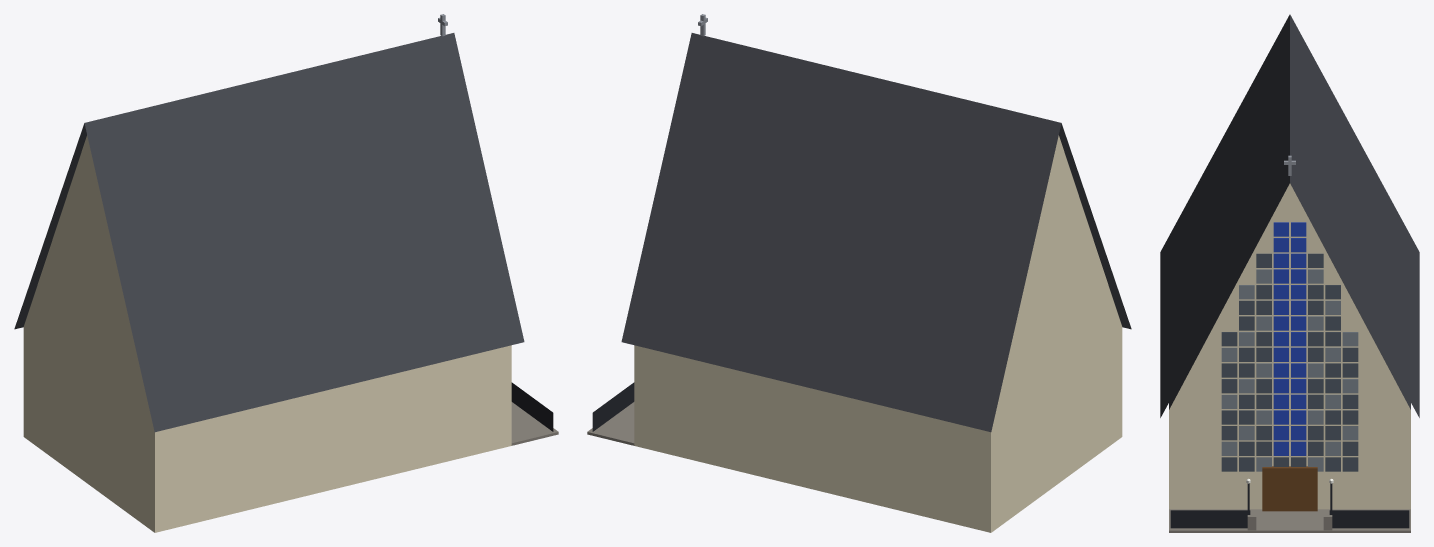
The model's file is catedral_illapel.obj.
3 renders of one model, left to right at view 1: azimuth 30°, elevation 25°; view 2: azimuth 150°, elevation 25°; view 3: azimuth 270°, elevation 25°, orthographic. The views are drawn at different scales.
Parts seen in each view (by area): view 1: catedral_illapel; view 2: catedral_illapel; view 3: catedral_illapel.
Part boxes in pixels (x1,y1,x2,y2): catedral_illapel: (14,14,558,532); catedral_illapel: (587,14,1131,532); catedral_illapel: (1160,14,1419,532).
Size of the model in its own units: 25.2 by 22.6 by 15.
